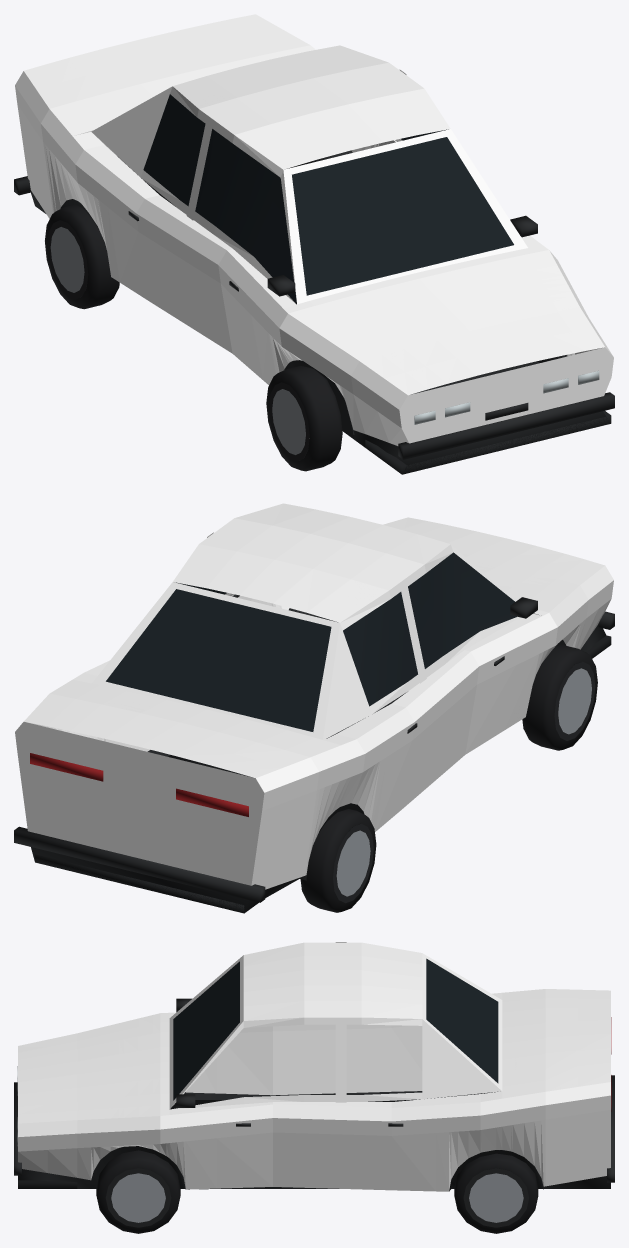
File: dunmere_balsa.glb
3 views of the same model, one above another, from view 1: azimuth 30°, elevation 25°; view 2: azimuth 150°, elevation 25°; view 3: azimuth 270°, elevation 25° (orthographic). The views are drawn at different scales.
Visible parts, largest first — view 1: Body_Paint, Body_Details, Mount_FrontLeft_Wheel_Details, Mount_RearLeft_Wheel_Details; view 2: Body_Paint, Body_Details, Mount_FrontLeft_Wheel_Details, Mount_RearLeft_Wheel_Details; view 3: Body_Paint, Body_Details, Mount_FrontRight_Wheel_Details, Mount_RearRight_Wheel_Details.
Boxes of the visible parts, <box> form: Body_Paint: <box>15,14,613,445</box>; Body_Details: <box>14,94,614,474</box>; Mount_FrontLeft_Wheel_Details: <box>266,366,342,471</box>; Mount_RearLeft_Wheel_Details: <box>45,204,119,309</box>; Body_Paint: <box>15,503,613,889</box>; Body_Details: <box>14,552,614,913</box>; Mount_FrontLeft_Wheel_Details: <box>522,644,597,750</box>; Mount_RearLeft_Wheel_Details: <box>300,809,376,912</box>; Body_Paint: <box>18,942,610,1191</box>; Body_Details: <box>14,958,614,1191</box>; Mount_FrontRight_Wheel_Details: <box>96,1150,180,1233</box>; Mount_RearRight_Wheel_Details: <box>454,1153,538,1233</box>.
Bounding box in the file's own units: 1.83 × 1.51 × 4.07.
2 materials, 1 textured.
